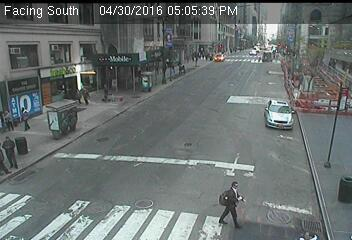neg: (296, 148, 320, 180), (329, 121, 350, 148), (243, 63, 261, 88), (279, 96, 296, 120), (315, 116, 327, 132), (322, 191, 330, 203)
pos: (212, 175, 257, 234), (10, 102, 33, 133), (76, 82, 93, 105)
